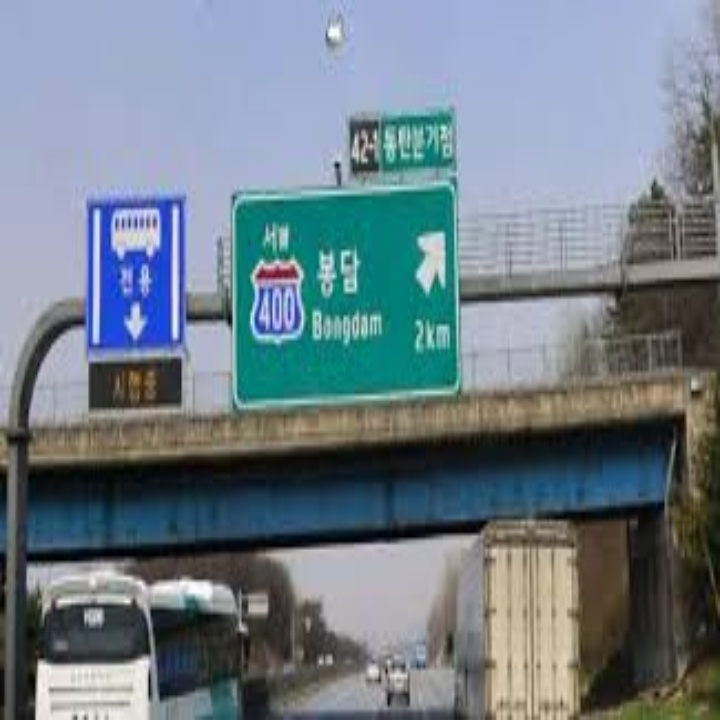bus: (98, 201, 167, 262)
